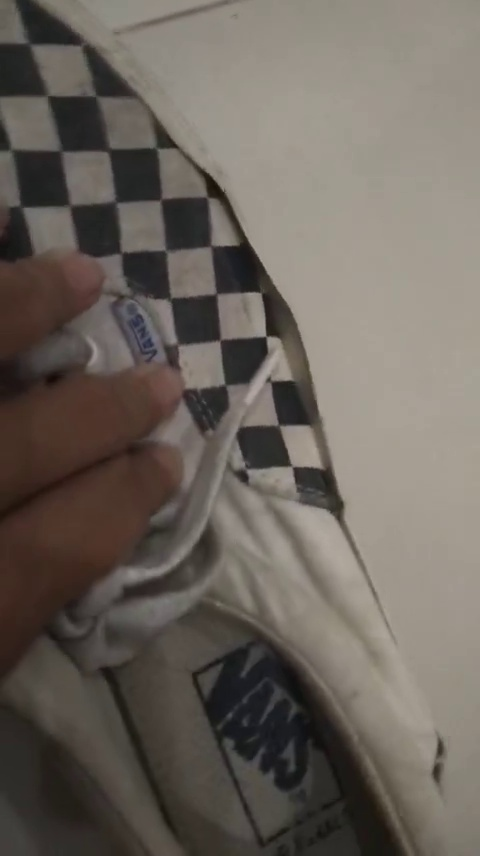bonding: (205, 172, 346, 472)
